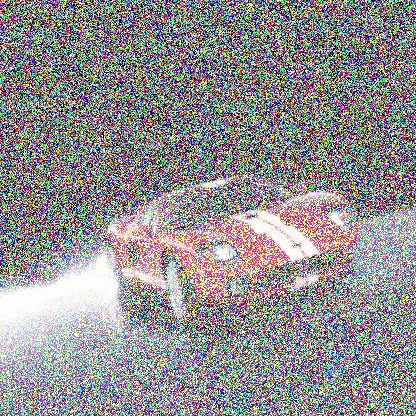Vehicle: (105, 175, 360, 323)
